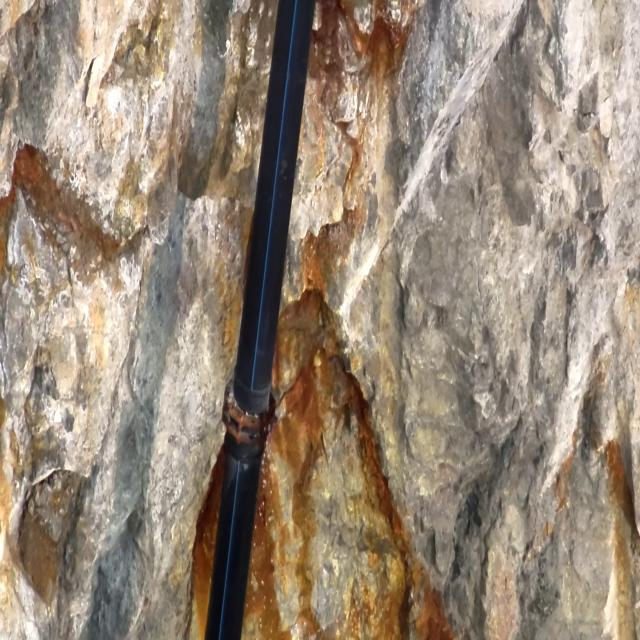leak: (243, 408, 279, 540)
